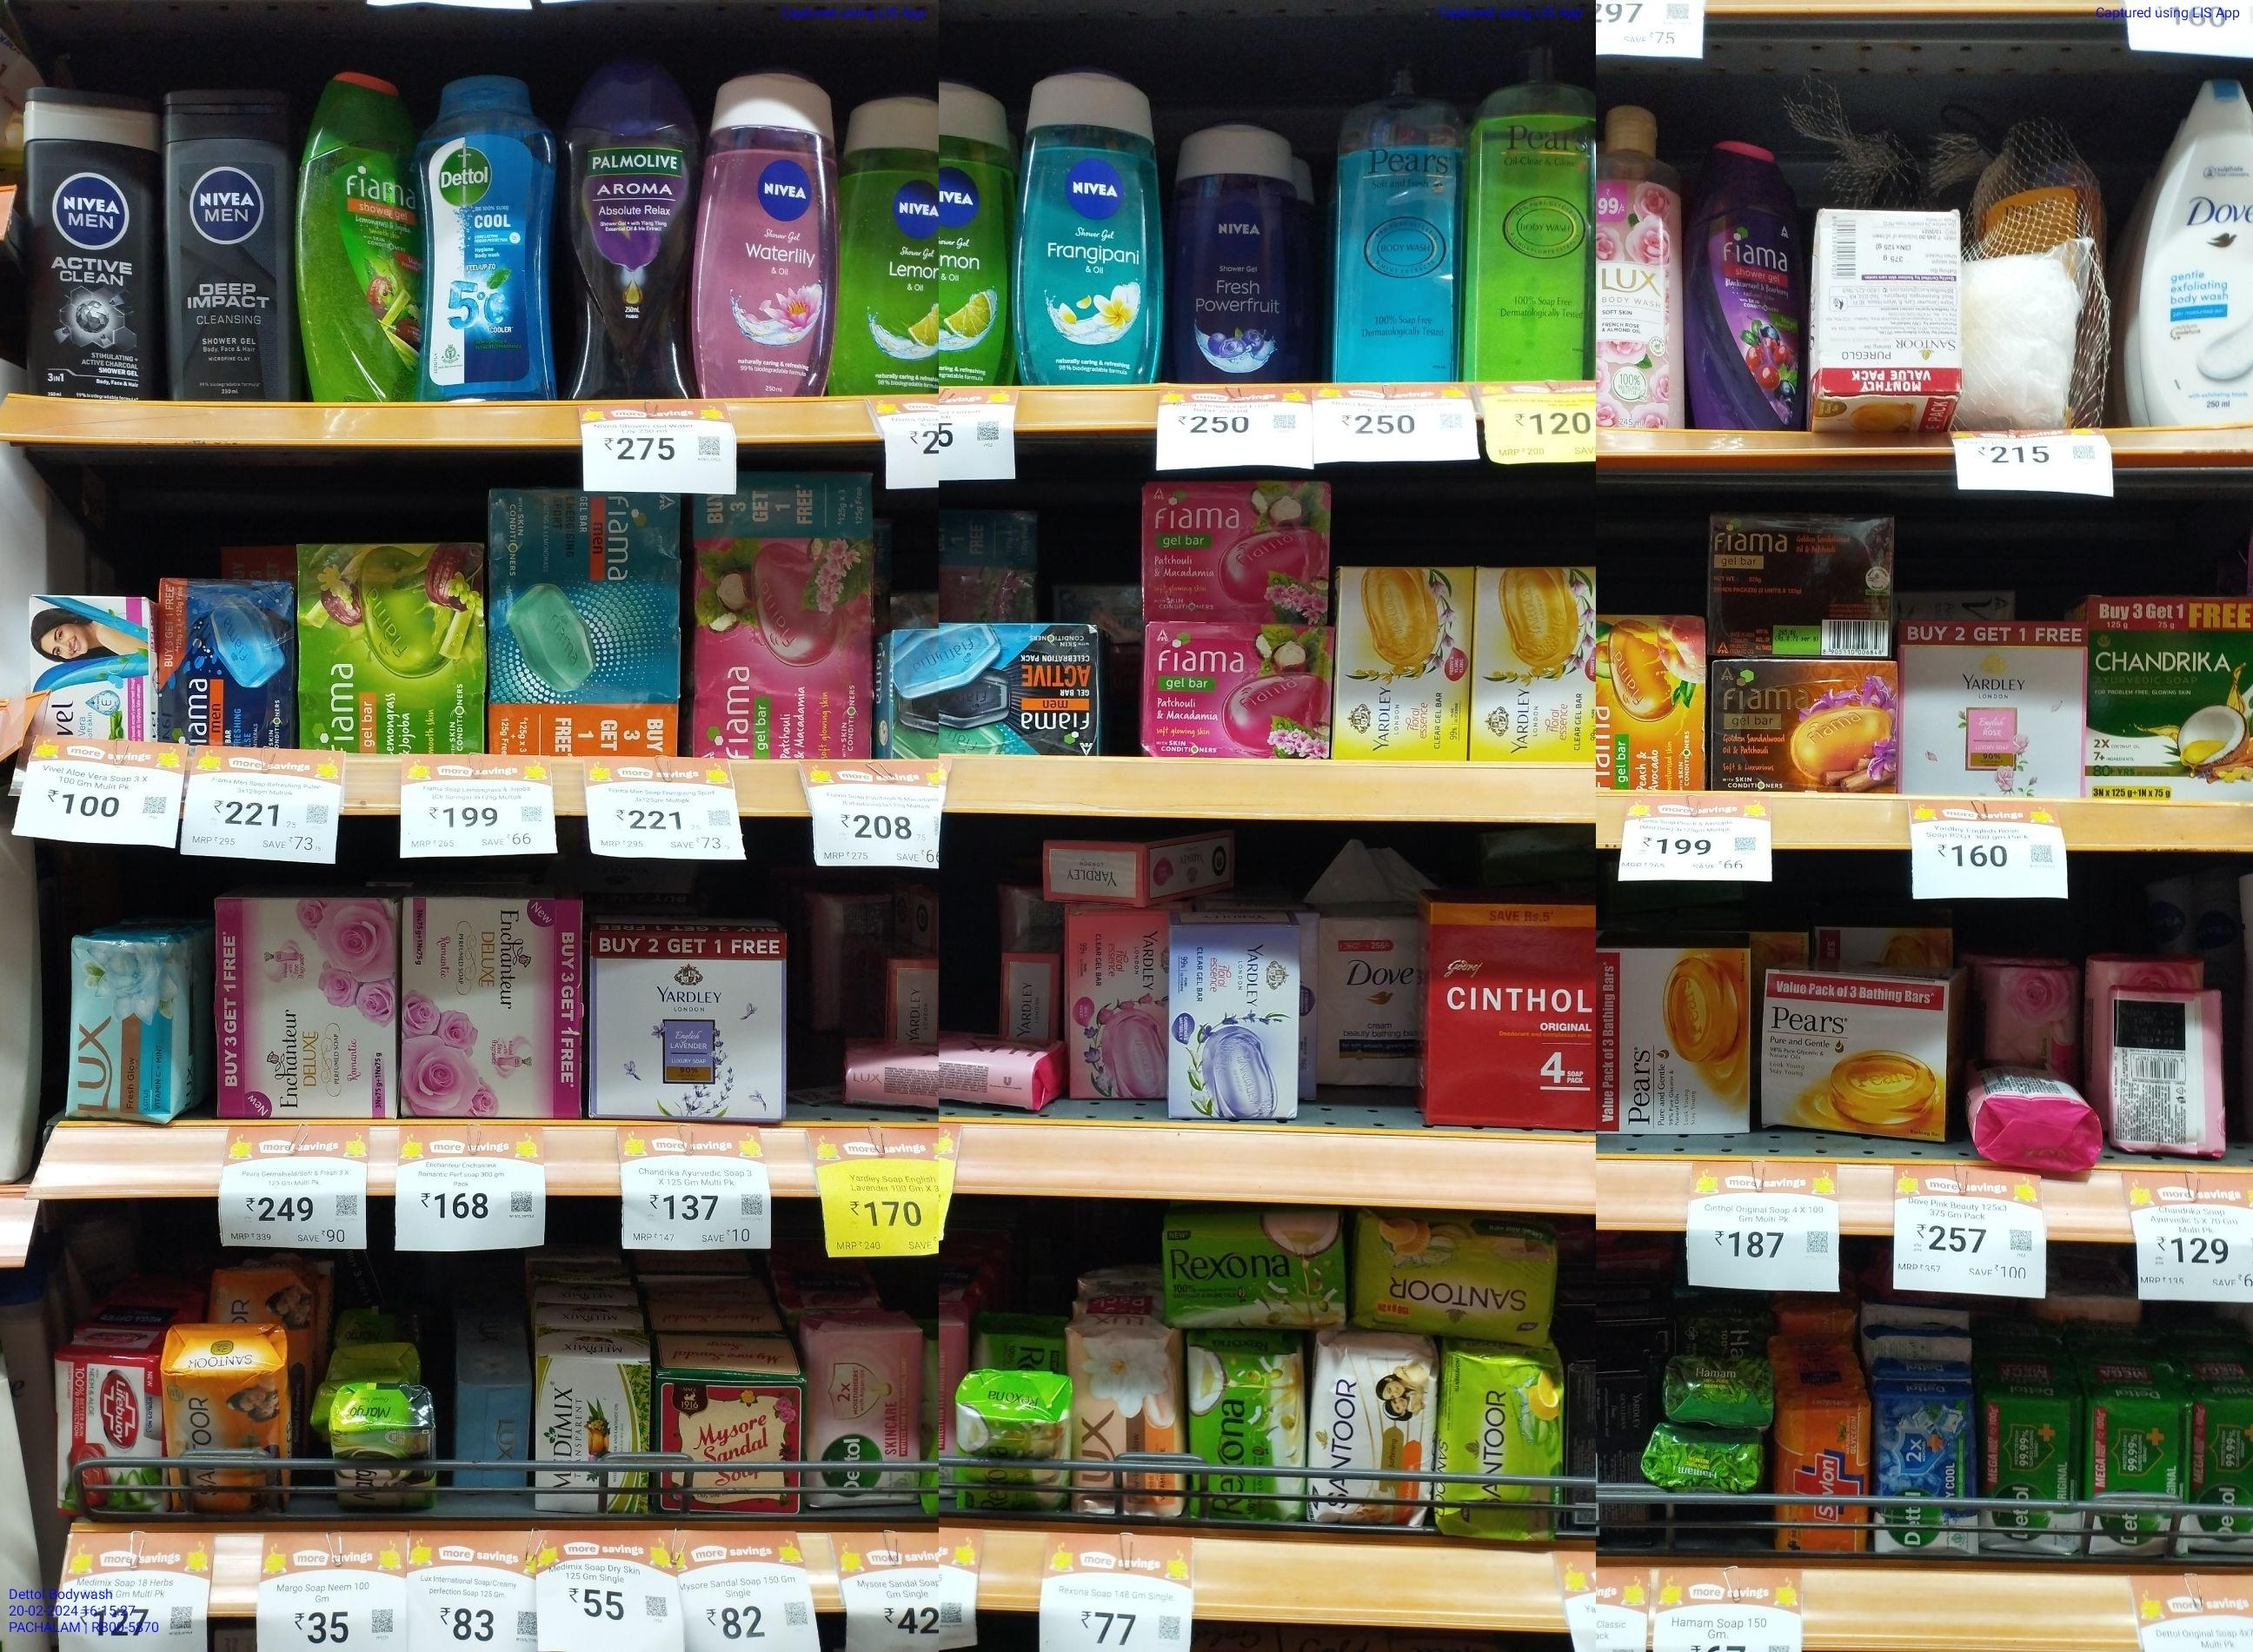Dettol_Bodywash_Cool: (430, 73, 563, 400)
Dove_Gentle_Exfoliating_Body_Wash_250ML: (2134, 66, 2253, 428)
Fiama_Shower_Gel_Lemongrass_and_Jojoba_250ML: (292, 72, 418, 400)
Nivea_Shower_Gel_Frangipani_and_Oil_250ML: (1015, 70, 1160, 383)
Nivea_Shower_Gel_Lemon_and_Oil_250ML: (845, 91, 936, 397)
Nivea_Shower_Gel_Waterlily_and_Oil_250ML: (701, 84, 824, 397)
Palmolive_Aroma_Relax_250ML: (574, 66, 687, 400)
Pears_Pure_Glycerin_and_Lemon_Flower_Extracts_Body_Wash_250ML: (1468, 42, 1592, 379)
Pears_Pure_Glycerin_and_Mint_Extracts_Body_Wash_250ML: (1333, 42, 1461, 386)
